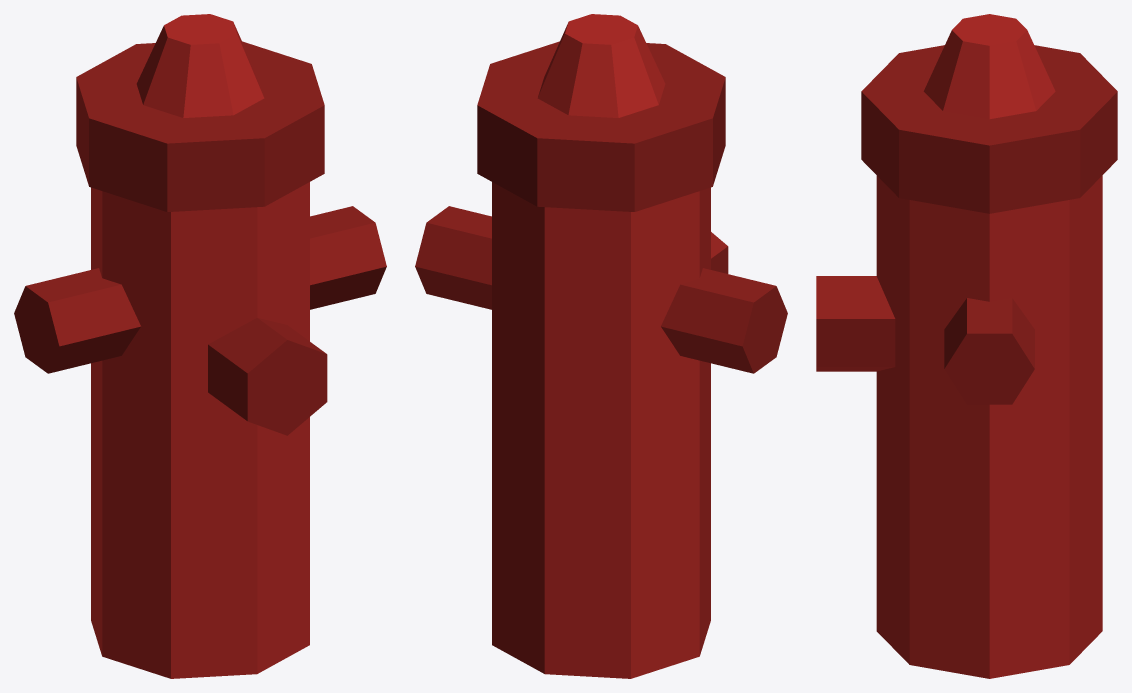
File: hydrant.glb
The picture shows the model from 3 angles, left to right: view 1: azimuth 30°, elevation 25°; view 2: azimuth 150°, elevation 25°; view 3: azimuth 270°, elevation 25°; orthographic projection.
Parts seen in each view (by area): view 1: hydrant; view 2: hydrant; view 3: hydrant.
Boxes of the visible parts, left/top/right/bottom form: hydrant: left=14, top=14, right=386, bottom=678; hydrant: left=415, top=14, right=787, bottom=678; hydrant: left=816, top=14, right=1117, bottom=678.
Size of the model in its own units: 0.5 by 0.88 by 0.4.
